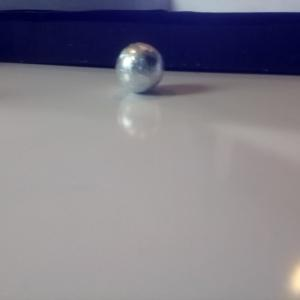zone: (1, 9, 300, 73)
